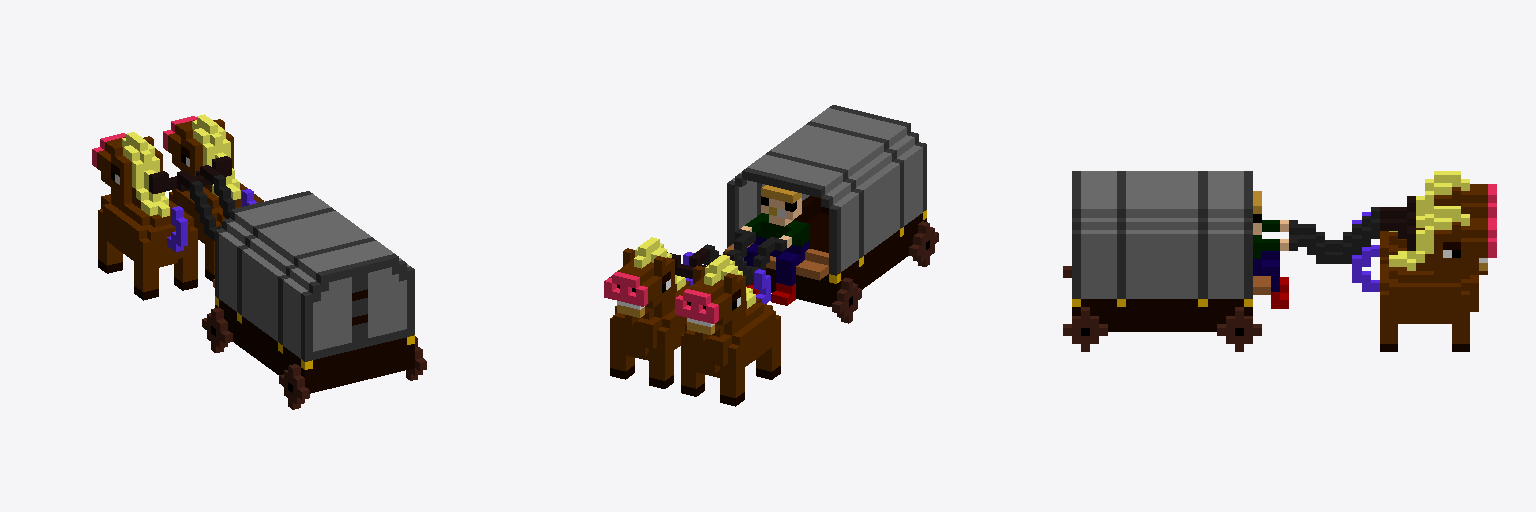
3 views of the same model, side by side, from view 1: azimuth 30°, elevation 25°; view 2: azimuth 150°, elevation 25°; view 3: azimuth 270°, elevation 25° (orthographic).
Parts seen in each view (by area): view 1: carriage; view 2: carriage; view 3: carriage.
Boxes of the visible parts, <box> form: carriage: <box>92,114,426,409</box>; carriage: <box>604,105,938,406</box>; carriage: <box>1063,171,1496,351</box>.
Size of the model in its own units: 16 by 16 by 48.
1 materials, 1 textured.